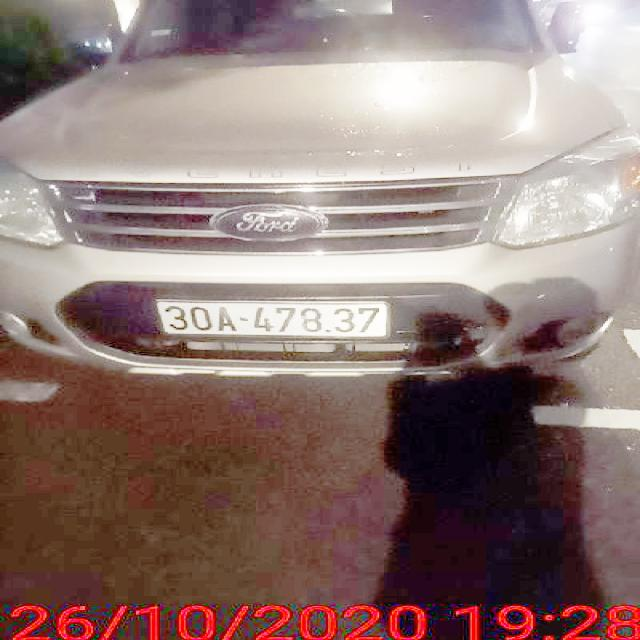license_plate: (160, 303, 388, 337)
